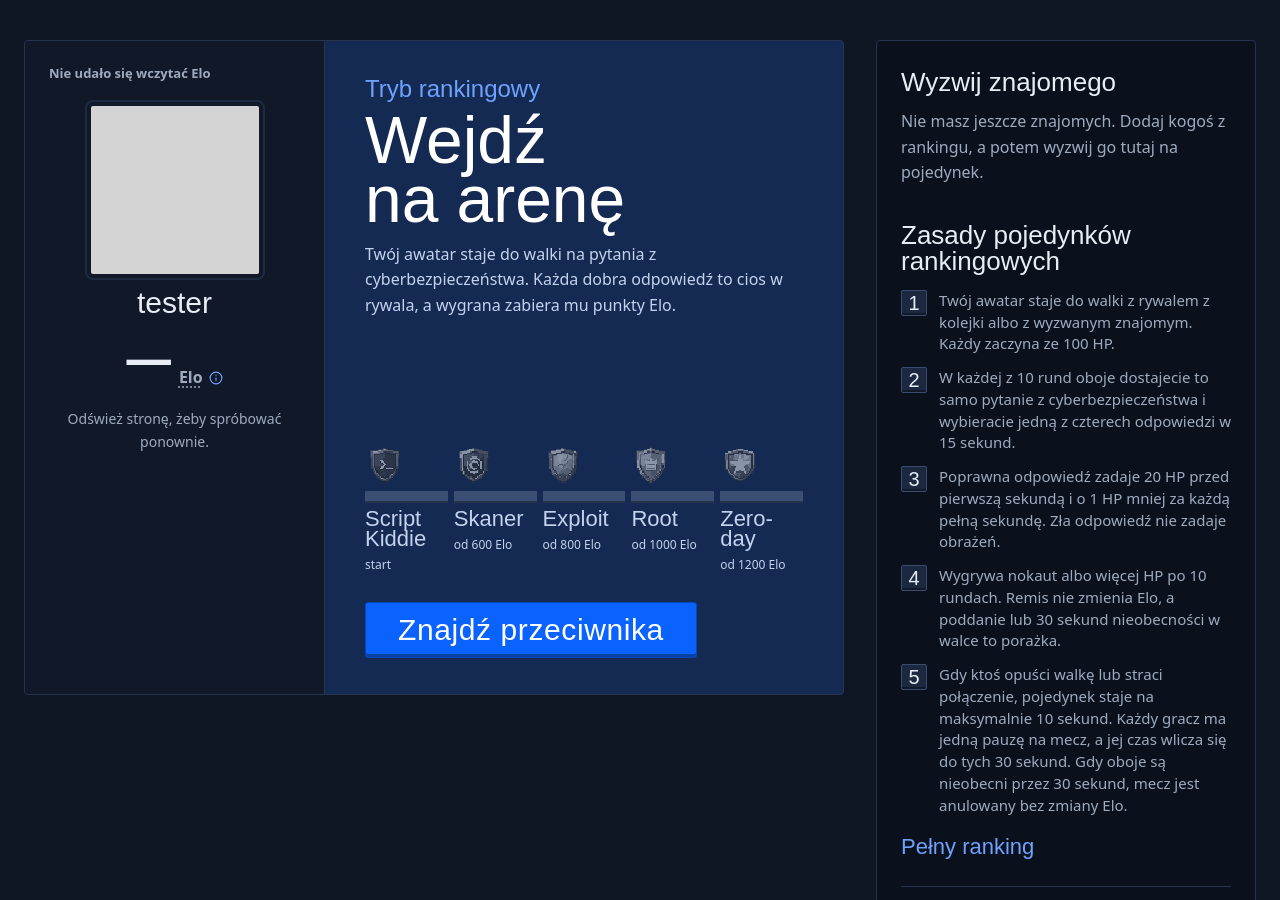
Test: shared realtime state › allows canceling a confirmed queue while the join response is pending
Click the button "Znajdź przeciwnika".
click(531, 630)  # box [365,602,697,658]
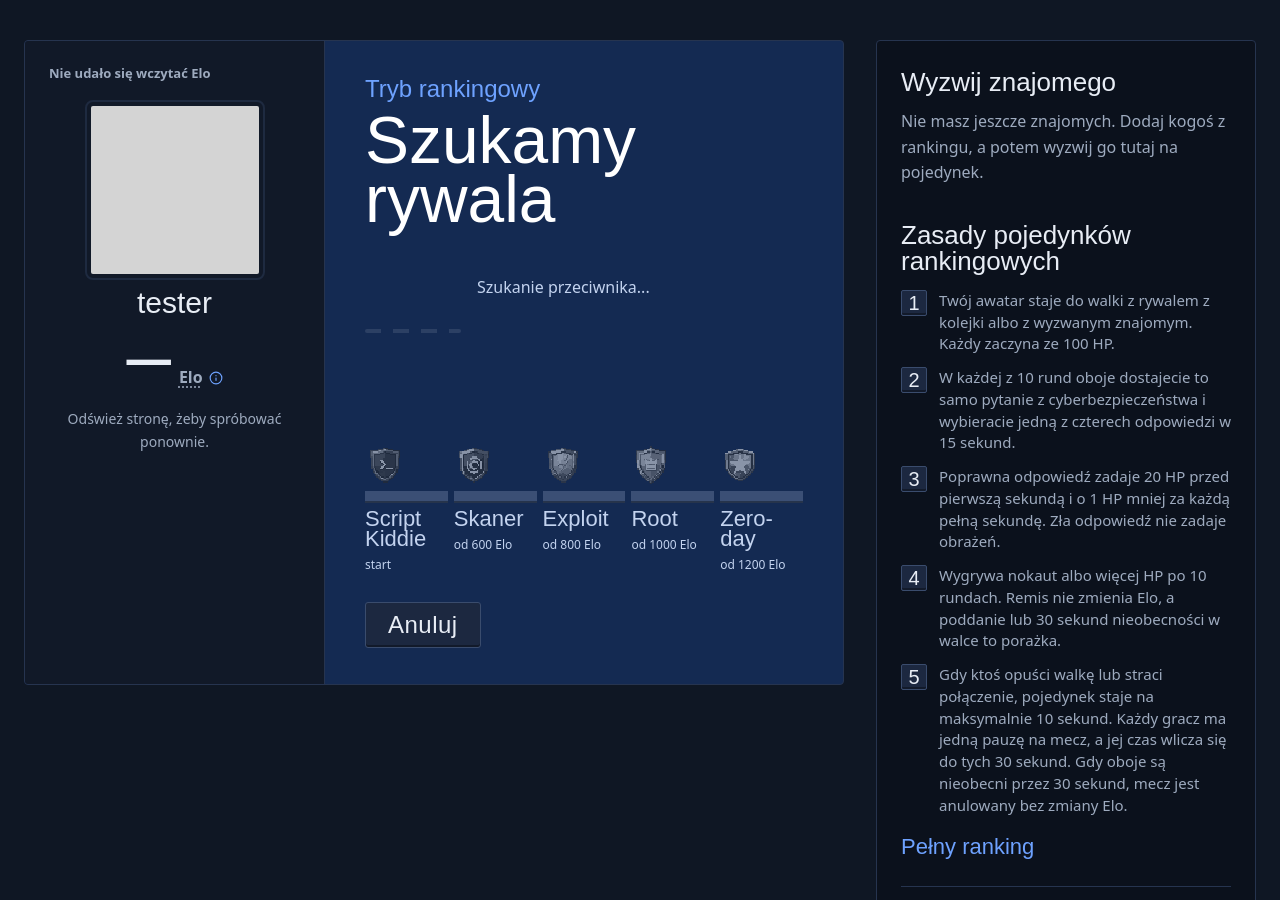
Expected: the text "Szukanie przeciwnika..." is shown, [477,275,650,300]
Click the button "Anuluj".
click(423, 625)  # box [365,602,481,648]
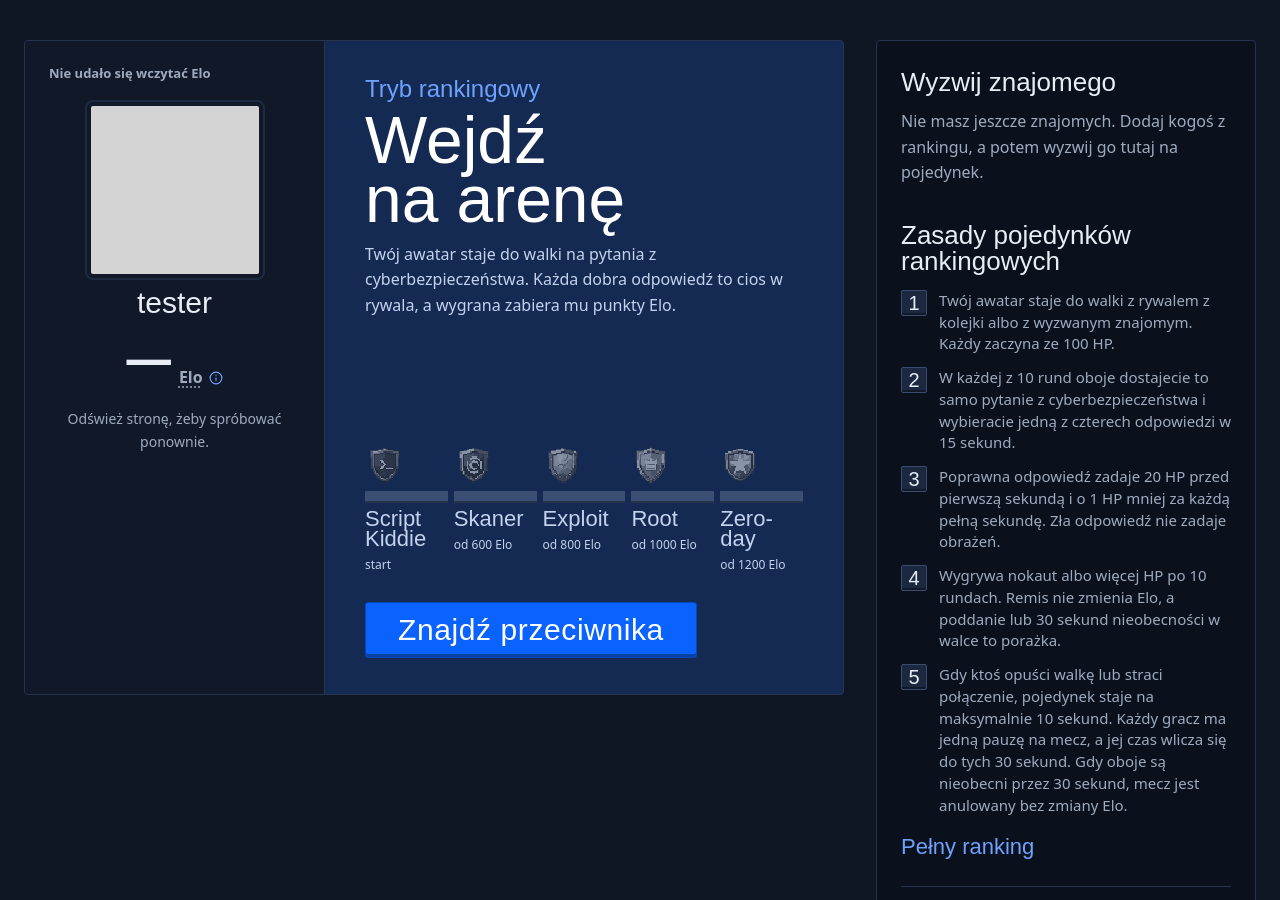
Expected: the button "Anuluj" is gone
